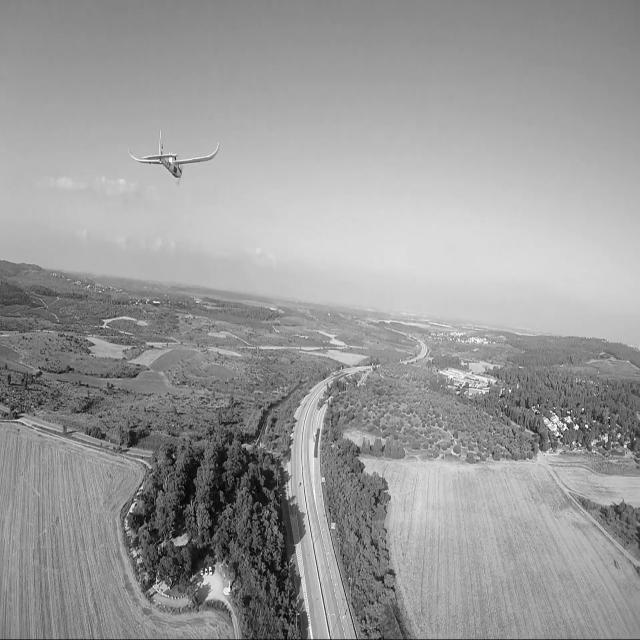iha: (155, 124, 191, 182)
